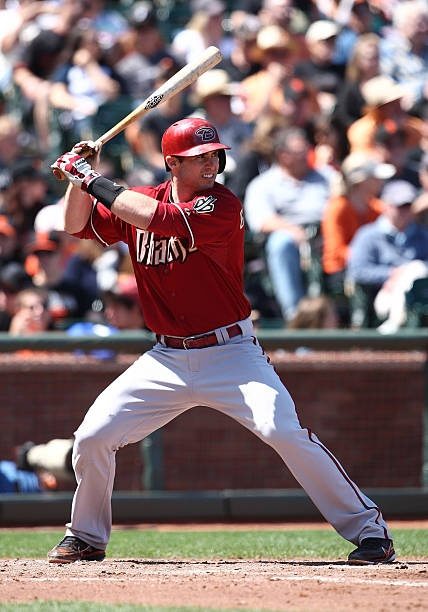bita: (54, 40, 228, 176)
